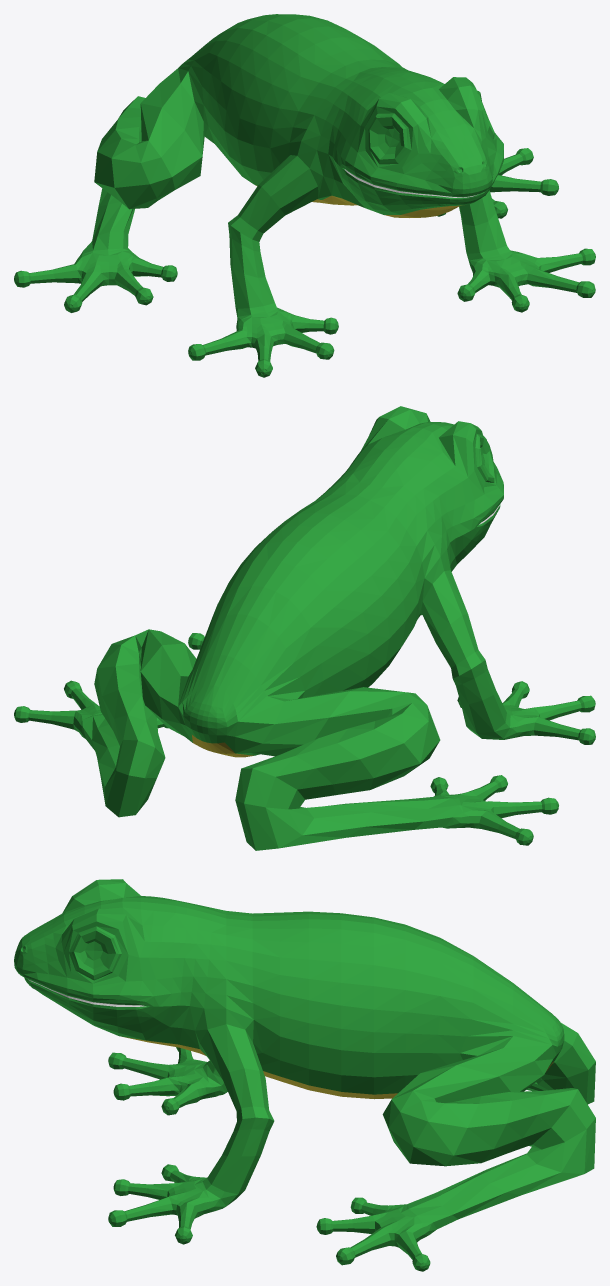
The model's file is frog_frog.obj.
The picture shows the model from 3 angles, top to bottom: view 1: azimuth 30°, elevation 25°; view 2: azimuth 150°, elevation 25°; view 3: azimuth 270°, elevation 25°; orthographic projection.
Bounding box in the file's own units: 0.1118 × 0.0521 × 0.1089.
